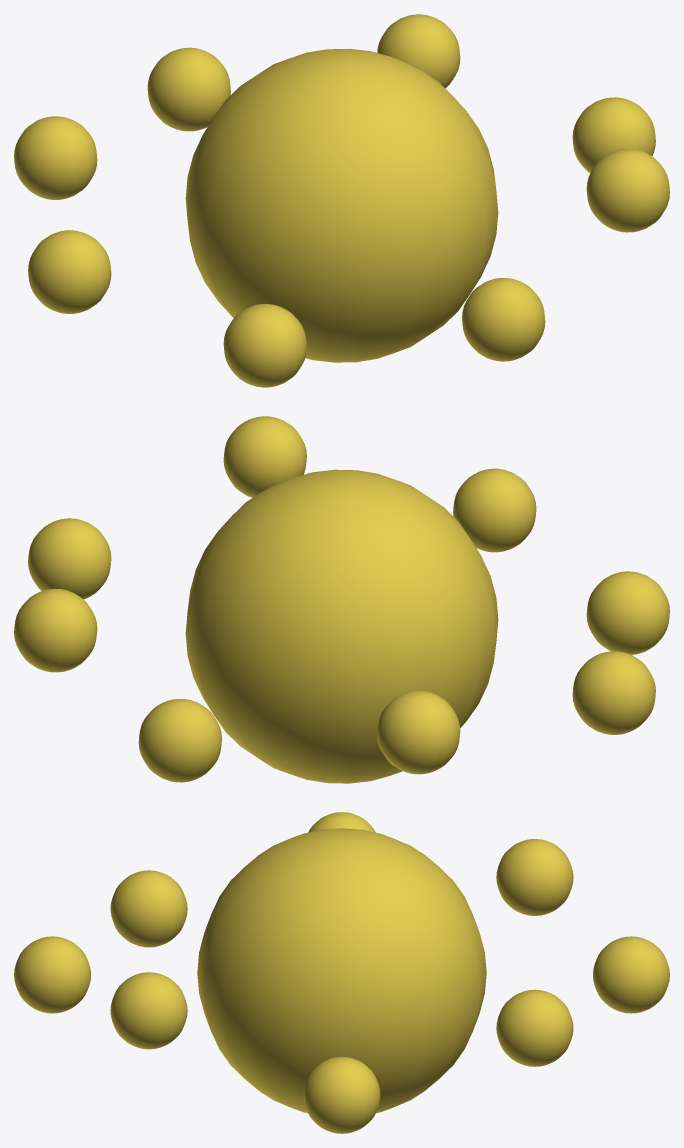
The model's file is enemy1.fbx.
3 views of the same model, one above another, from view 1: azimuth 30°, elevation 25°; view 2: azimuth 150°, elevation 25°; view 3: azimuth 270°, elevation 25° (orthographic). The views are drawn at different scales.
Parts seen in each view (by area): view 1: polySurface1; view 2: polySurface1; view 3: polySurface1.
Part boxes in pixels (left/top/right/bottom): polySurface1: left=14, top=14, right=669, bottom=387; polySurface1: left=14, top=416, right=669, bottom=783; polySurface1: left=14, top=812, right=669, bottom=1133.
Bounding box in the file's own units: 3.4 × 1.5 × 3.4.
